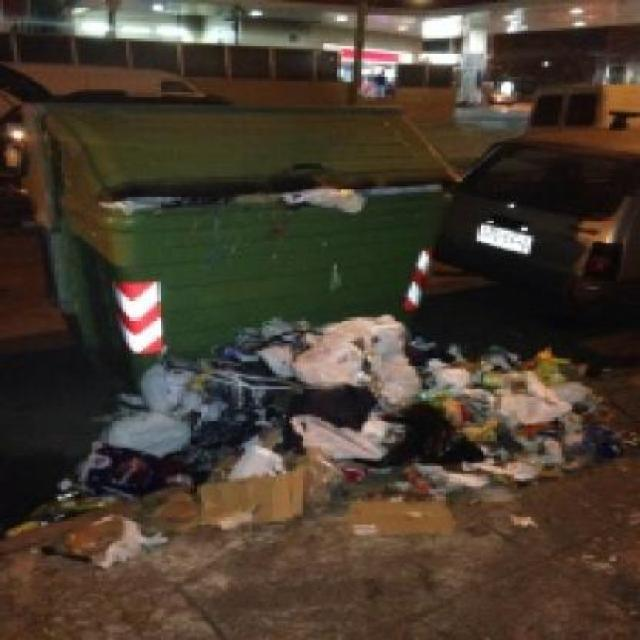garbage: (149, 320, 540, 540), (48, 425, 130, 571), (231, 190, 398, 213)
